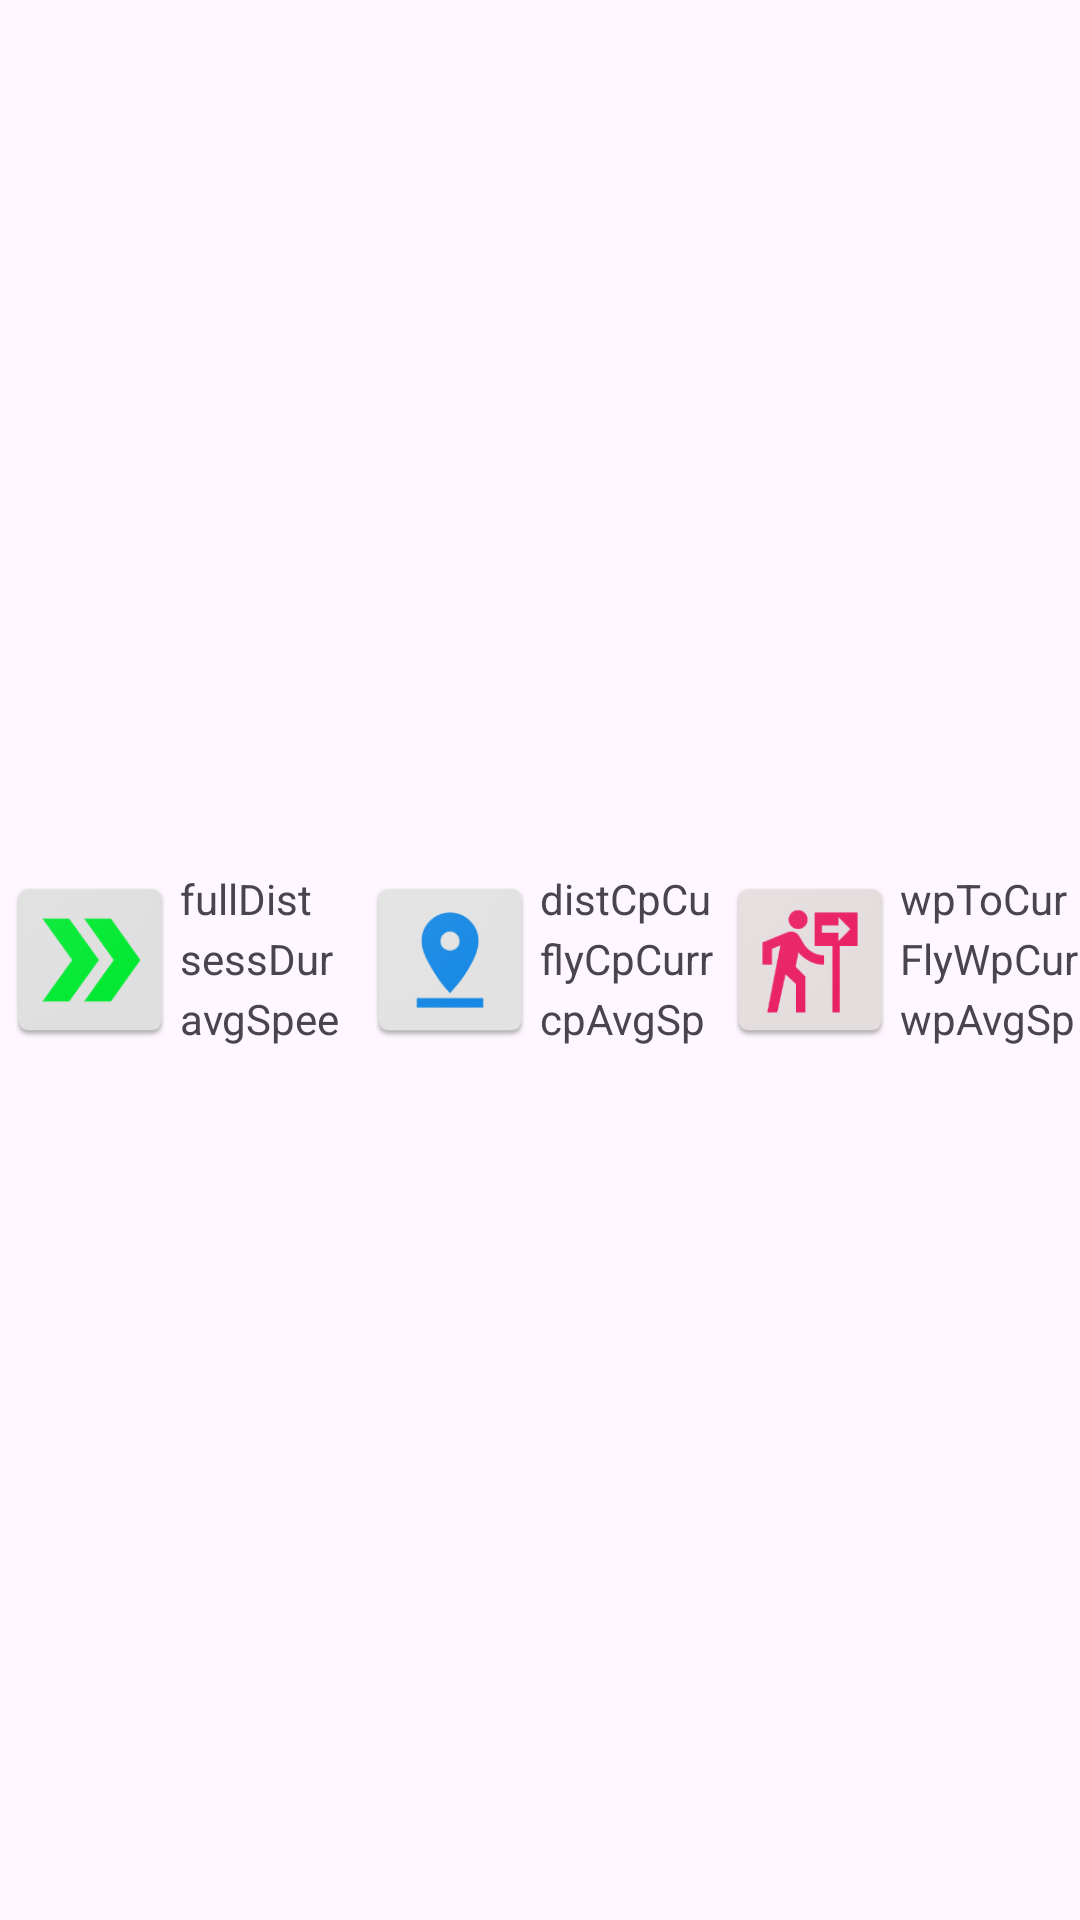

Icon click points for this 1080×1920 phone screenshot, format (x,y):
checkpoint: (450,962)
start: (90,962)
waypoint: (810,962)
